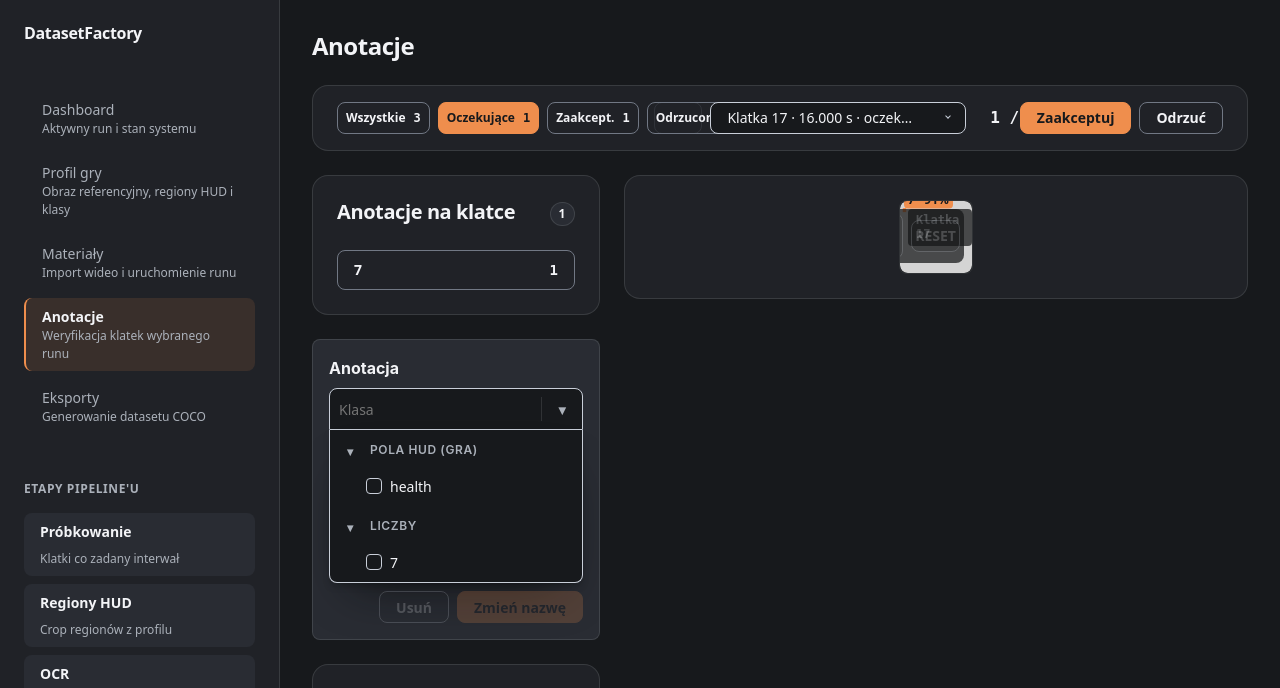
FE-009-FIX1 — an unsaved nudge is visible and blocks acceptance › refuses to accept the frame from the shortcut or the button
The width and height of the screenshot is (1280, 688).
Click the button named "Klasa 7, 1 anotacji". click: x=456, y=270
box: [337, 250, 575, 290]
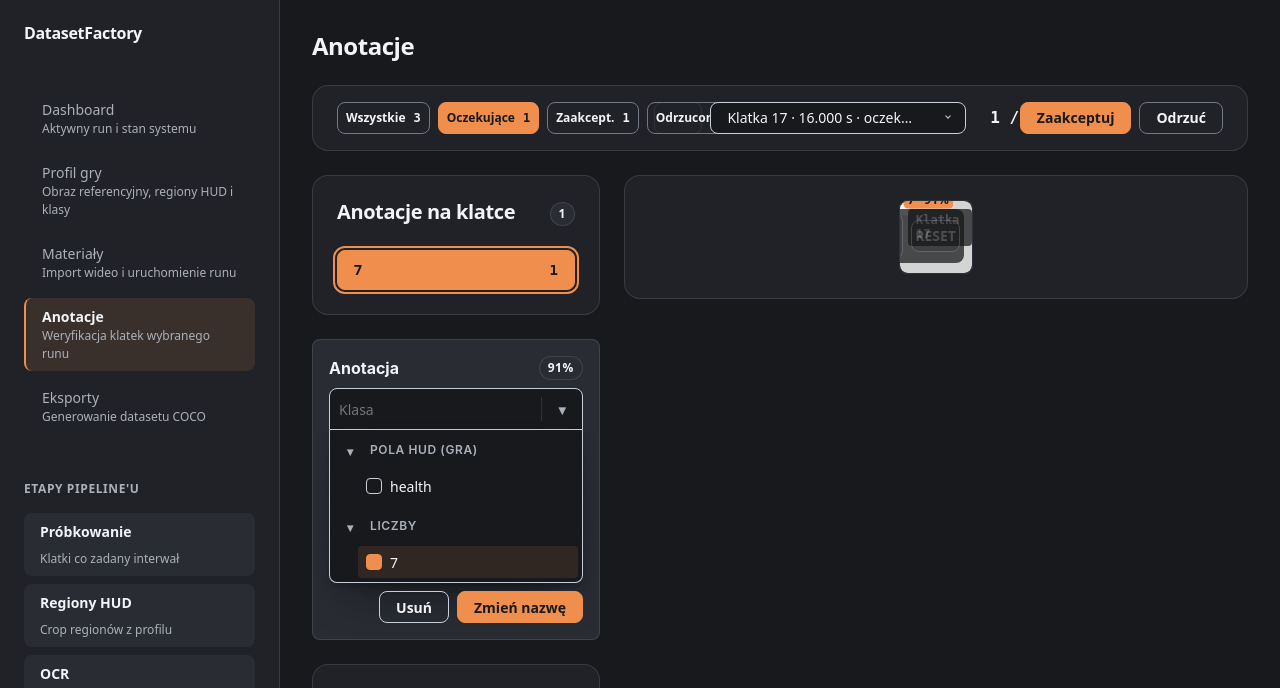
Press Arrowright Arrowright Arrowright
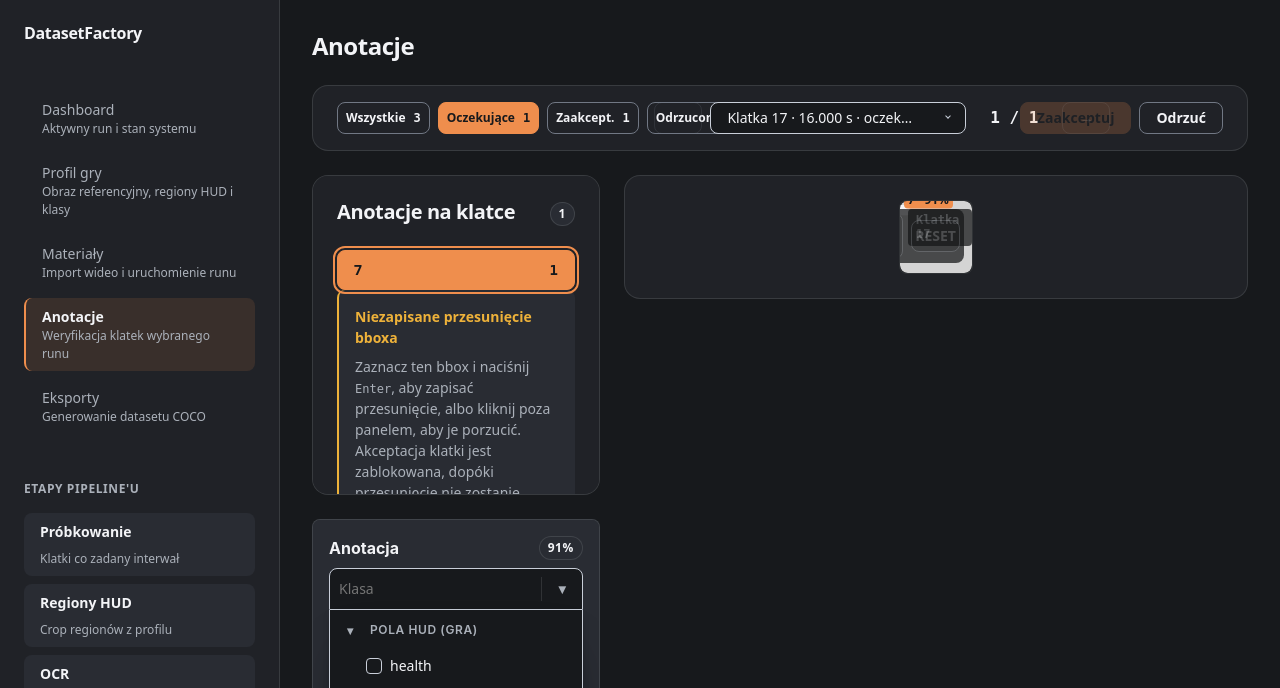
Type keys "a"
Expected: the button with aria-label "Zaakceptuj klatkę" is disabled
Click the button with aria-label "Zaakceptuj klatkę". click: x=1076, y=118
box: [1020, 102, 1131, 134]
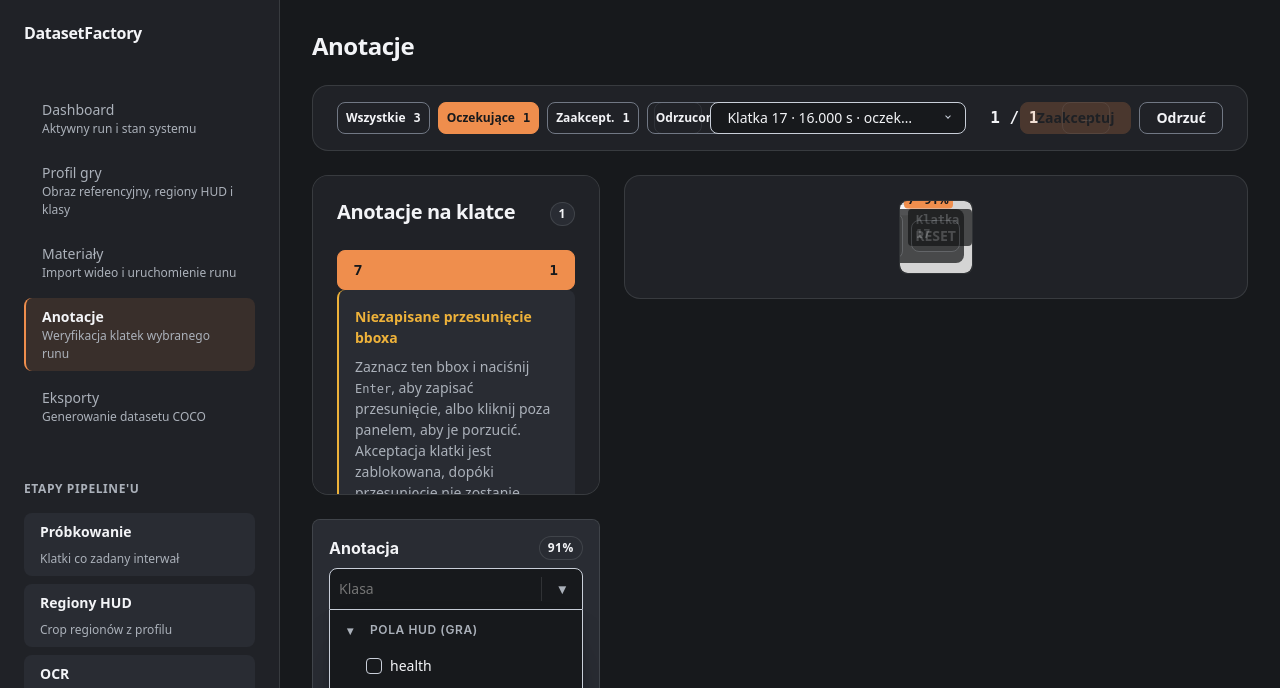
Expected: the message "Niezapisane przesunięcie bboxa" is shown, [337, 290, 575, 495]
Press Enter
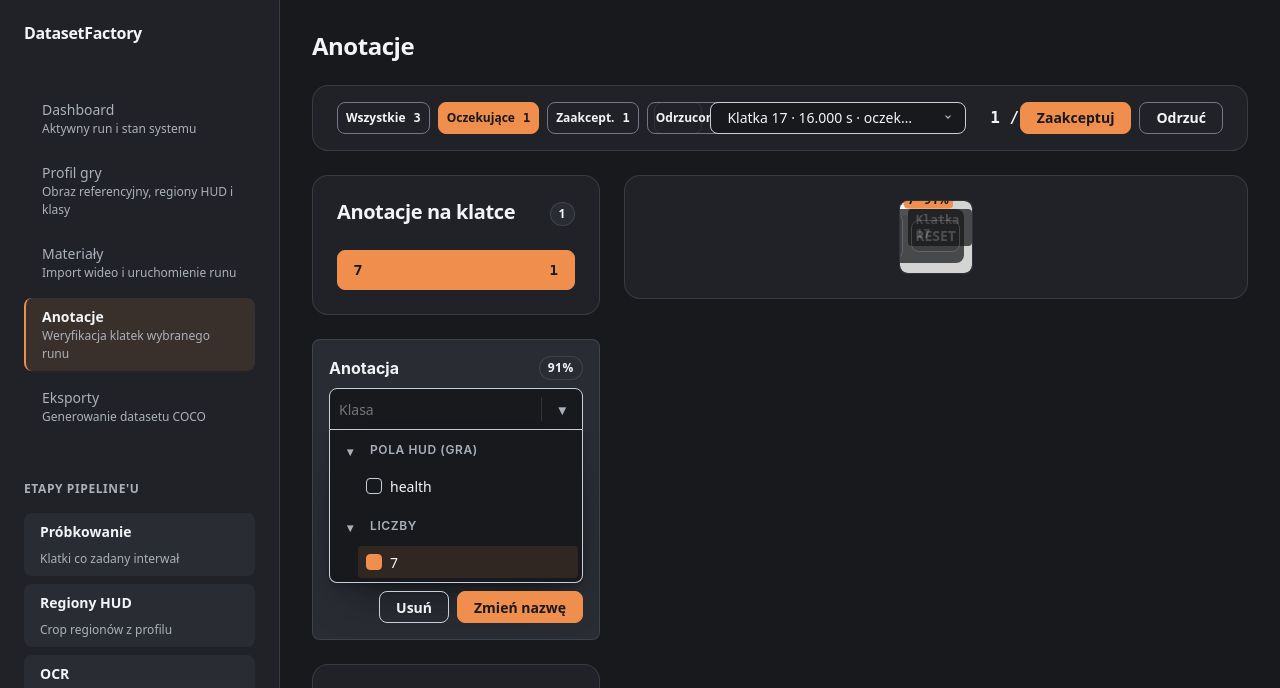
Expected: the button with aria-label "Zaakceptuj klatkę" is enabled, [1020, 102, 1131, 134]
